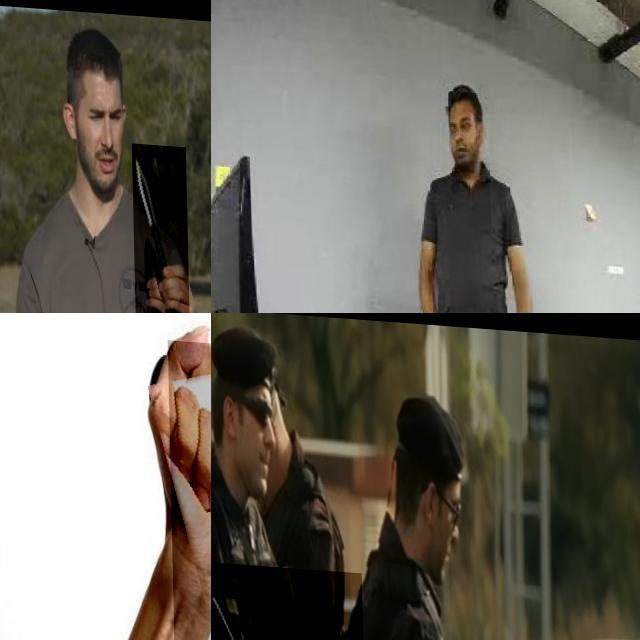-: (131, 138, 188, 313)
gun-knife-thesis - v11 Yolov5 augmented: (211, 559, 367, 640)
